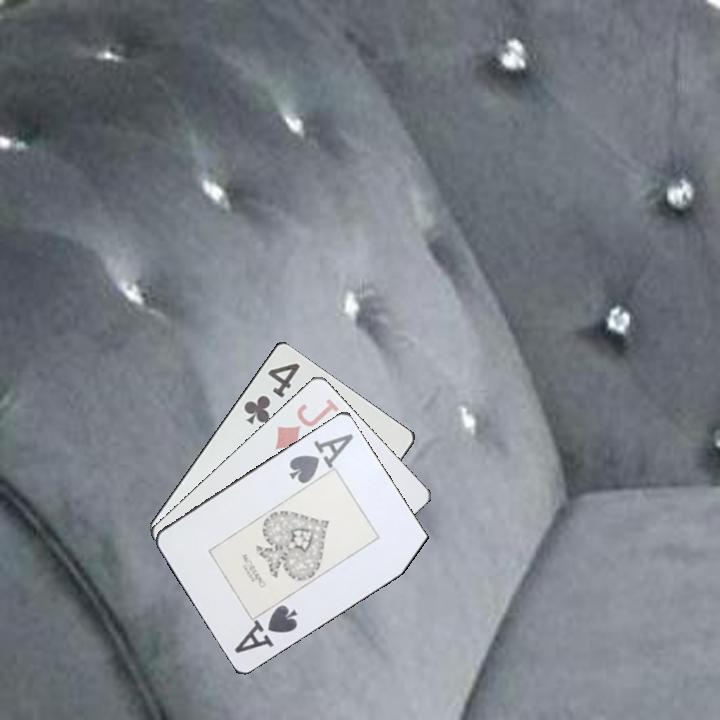4c: (240, 359, 303, 427)
As: (285, 429, 356, 486), (231, 600, 301, 656)
Jd: (271, 394, 341, 453)
